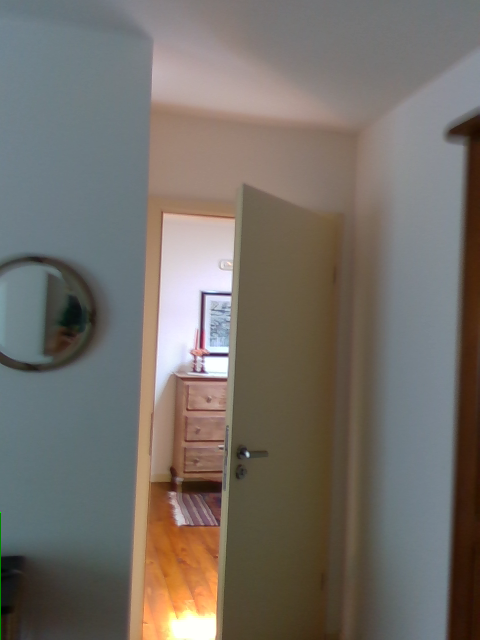semi: (119, 181, 340, 639)
